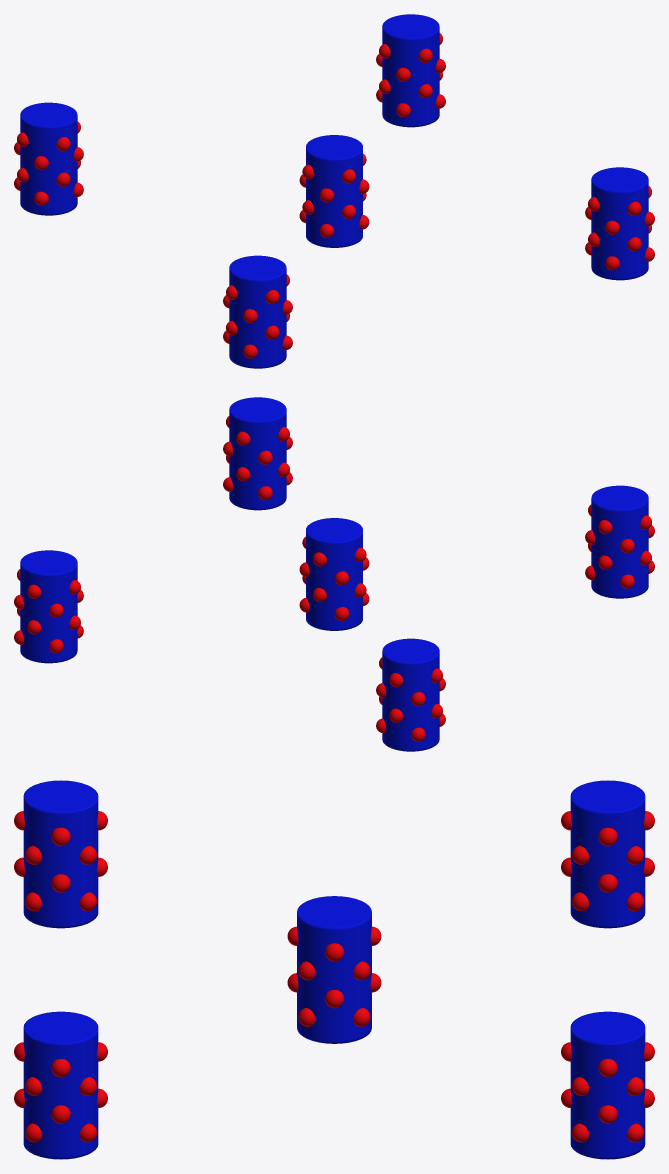
3 renders of one model, top to bottom at view 1: azimuth 30°, elevation 25°; view 2: azimuth 150°, elevation 25°; view 3: azimuth 270°, elevation 25°, orthographic. The views are drawn at different scales.
Parts seen in each view (by area): view 1: Cylinder.009, Cylinder.007, Cylinder.010, Cylinder.008, Cylinder.006; view 2: Cylinder.010, Cylinder.008, Cylinder.009, Cylinder.007, Cylinder.006; view 3: Cylinder.007, Cylinder.008, Cylinder.009, Cylinder.010, Cylinder.006.
Boxes of the visible parts, x1,y1,x2,y2 form: Cylinder.009: (376,14,445,127); Cylinder.007: (223,255,292,368); Cylinder.010: (585,167,654,280); Cylinder.008: (14,102,83,215); Cylinder.006: (299,135,369,247); Cylinder.010: (223,397,292,510); Cylinder.008: (376,638,445,751); Cylinder.009: (14,550,83,663); Cylinder.007: (585,485,654,598); Cylinder.006: (299,518,369,630); Cylinder.007: (14,780,107,928); Cylinder.008: (561,780,654,928); Cylinder.009: (561,1011,654,1159); Cylinder.010: (14,1011,107,1159); Cylinder.006: (287,896,381,1043).
Bounding box in the file's own units: 9.38 × 1.88 × 9.38.
